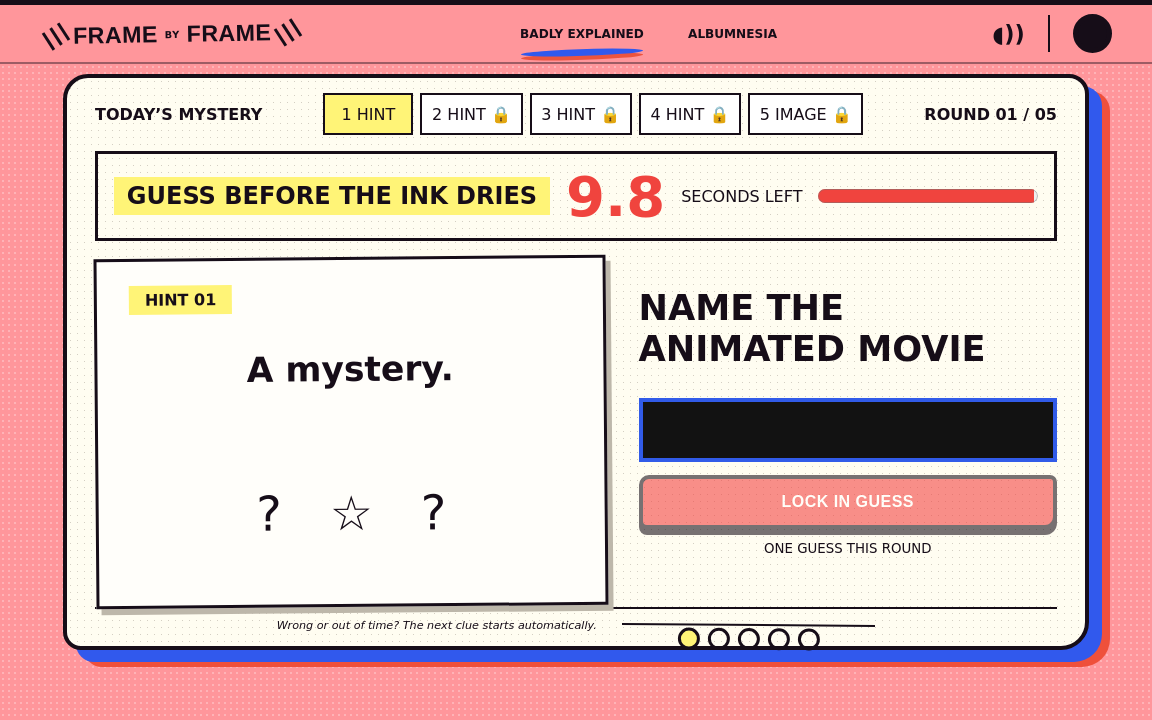
only suggests related titles after typing and hides them when cleared
Type "Find" into the field named "Movie title" at (848, 430), box [638,398,1057,462]
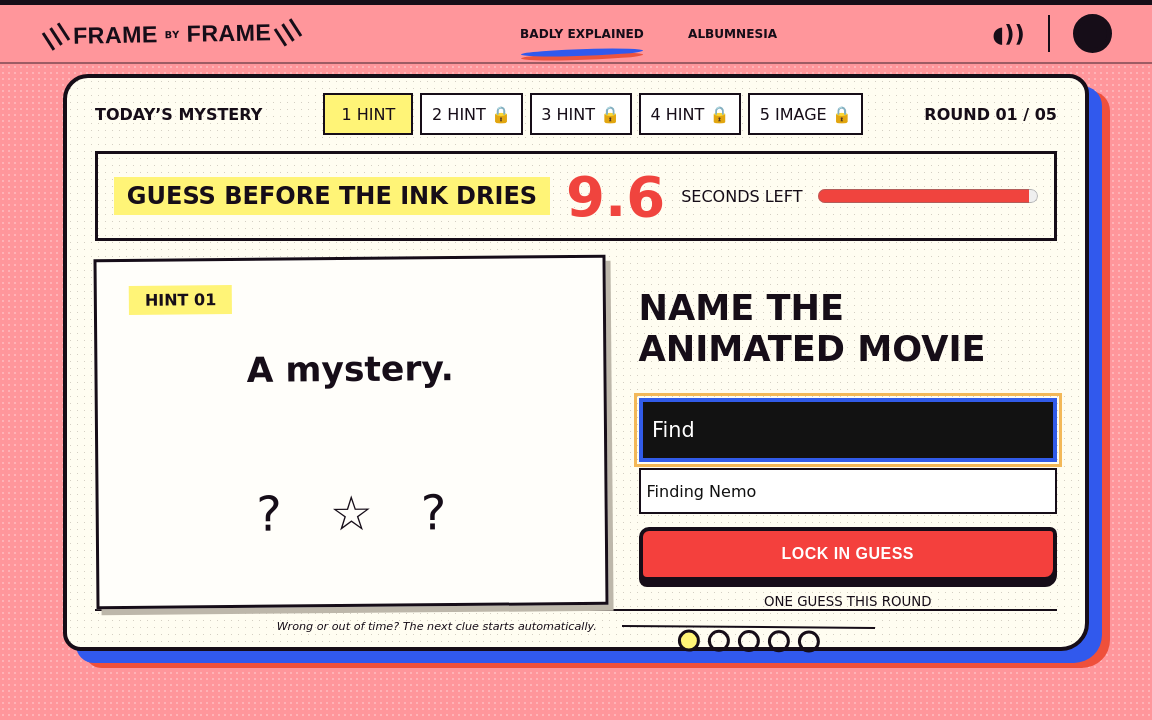
Result: the button "Finding Nemo" is shown at [640,470,1055,512]
Clear the field named "Movie title" at (848, 430), box [638,398,1057,462]
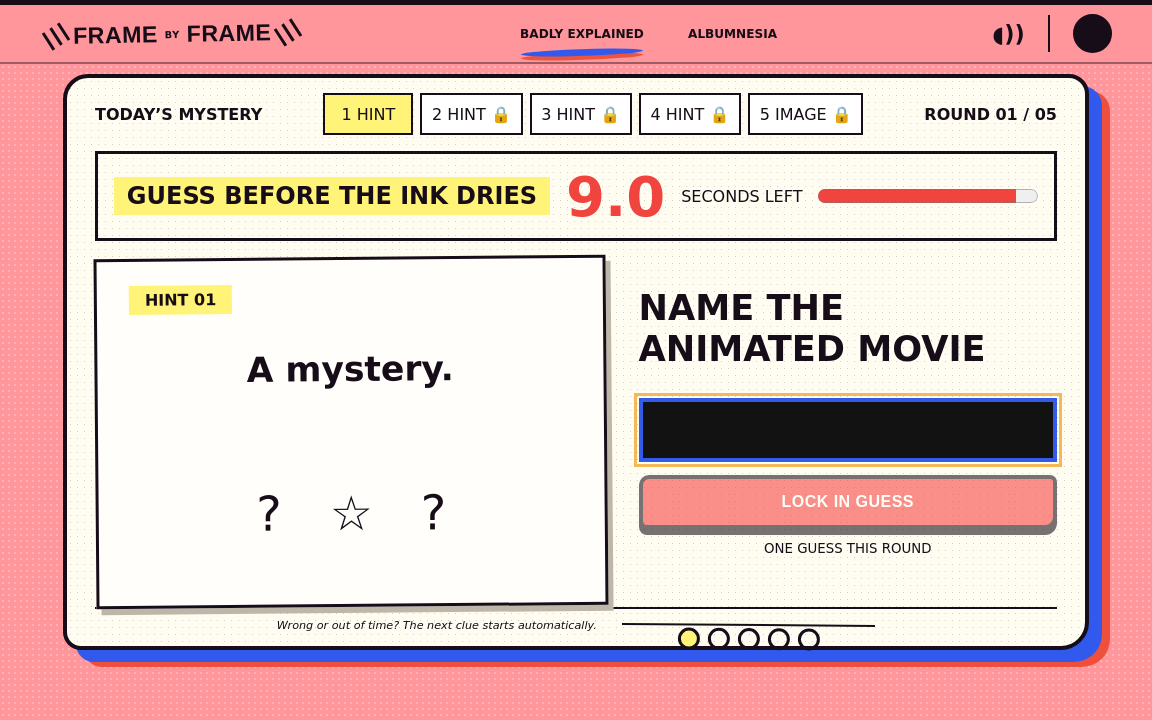
Result: the list is gone
